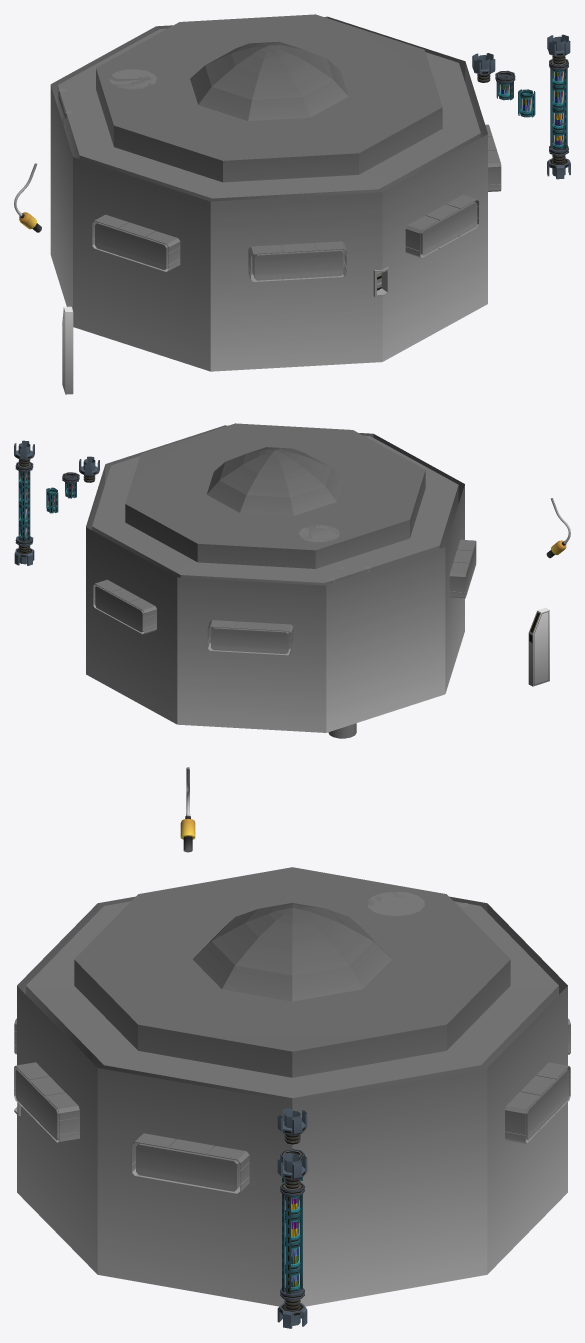
Rendered from ReactorNuclear.fbx.
3 views of the same model, one above another, from view 1: azimuth 30°, elevation 25°; view 2: azimuth 150°, elevation 25°; view 3: azimuth 270°, elevation 25° (orthographic). The views are drawn at different scales.
Parts seen in each view (by area): view 1: DomoReactor, Group005, Group006, Group004, Box113, Line113, Group003, Pilar004, Pilar01; view 2: DomoReactor, Group001, Group002, Box113, Group006, Line113, Pilar01, Pilar004; view 3: DomoReactor, Group003, Group004, Group002, Line113, Pilar004, Pilar01, Pilar007.
Boxes of the visible parts, x1,y1,x2,y2 form: DomoReactor: (50, 14, 487, 371); Group005: (248, 241, 346, 282); Group006: (92, 214, 180, 272); Group004: (405, 195, 479, 258); Box113: (62, 306, 73, 394); Line113: (109, 69, 156, 89); Group003: (485, 124, 501, 191); Pilar004: (547, 34, 570, 64); Pilar01: (472, 53, 495, 82); DomoReactor: (86, 423, 464, 732); Group001: (207, 620, 293, 655); Group002: (93, 579, 156, 634); Box113: (528, 607, 549, 686); Group006: (449, 539, 476, 598); Line113: (299, 525, 356, 738); Pilar01: (79, 456, 99, 482); Pilar004: (14, 440, 34, 466); DomoReactor: (17, 867, 567, 1306); Group003: (131, 1133, 249, 1194); Group004: (14, 1062, 79, 1143); Group002: (505, 1062, 570, 1143); Line113: (367, 891, 424, 916); Pilar004: (277, 1152, 307, 1189); Pilar01: (277, 1108, 307, 1144); Pilar007: (277, 1299, 307, 1328).
Bounding box in the file's own units: 2196 × 958 × 1455.
2 materials, 1 textured.
